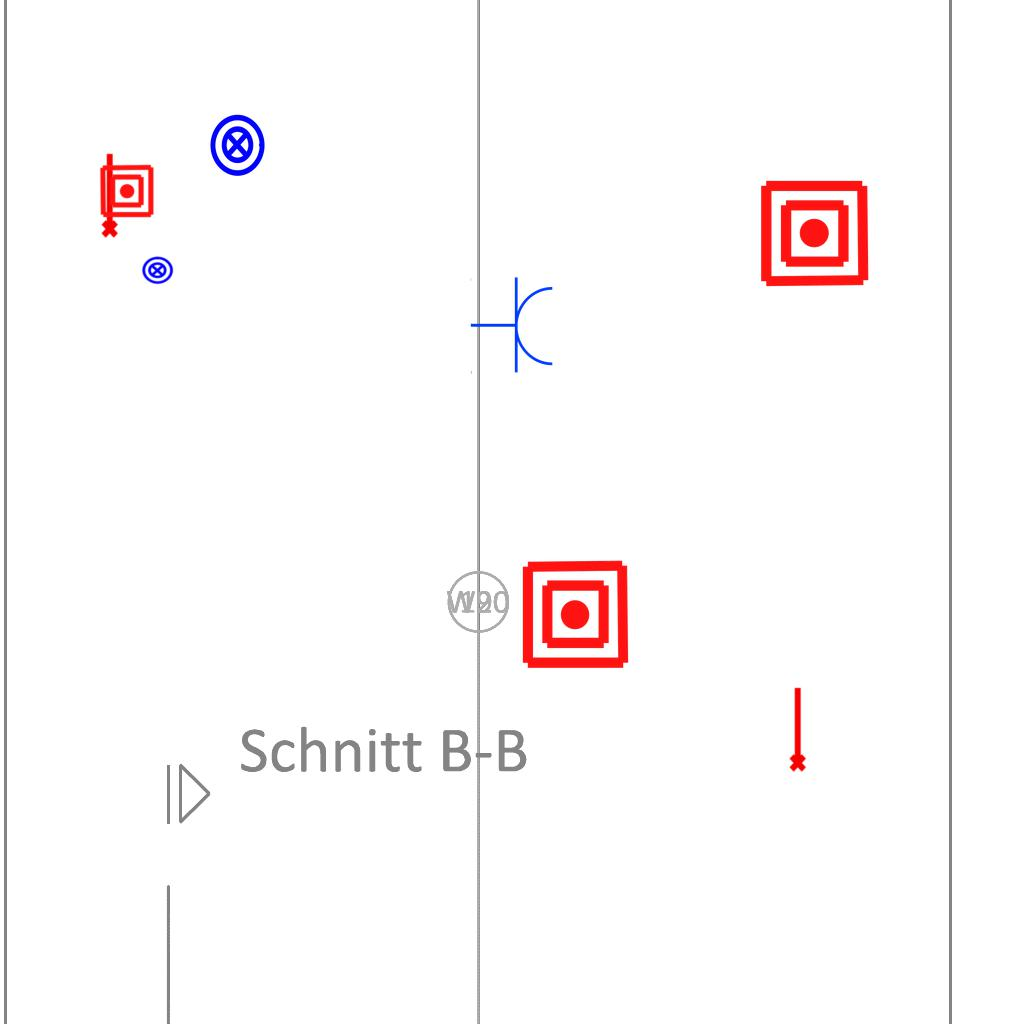ASR_Ansaugoeffnung: (785, 685, 808, 773), (97, 151, 120, 239)
NAM-Nichtautomatischer_Melder: (758, 177, 871, 290), (519, 558, 632, 671), (99, 163, 155, 219)
Schukosteckdose_einfach: (470, 276, 557, 376)
Taster_beleuchtet: (204, 112, 270, 178), (141, 254, 174, 287)
